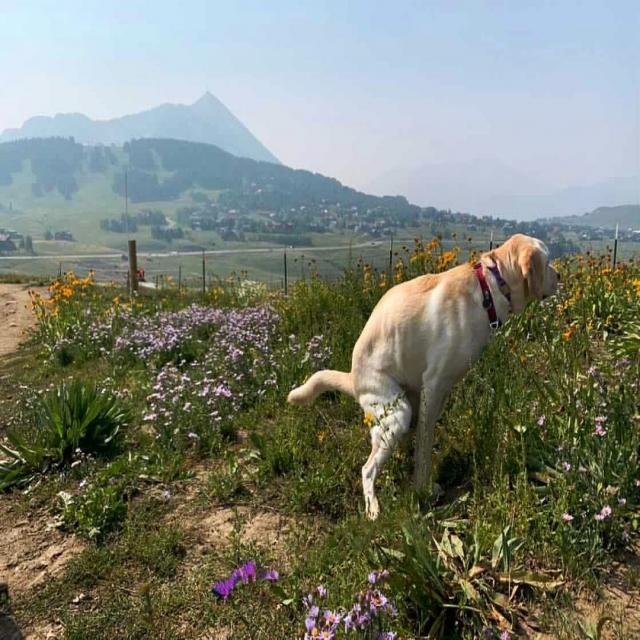squatting: (280, 222, 566, 524)
